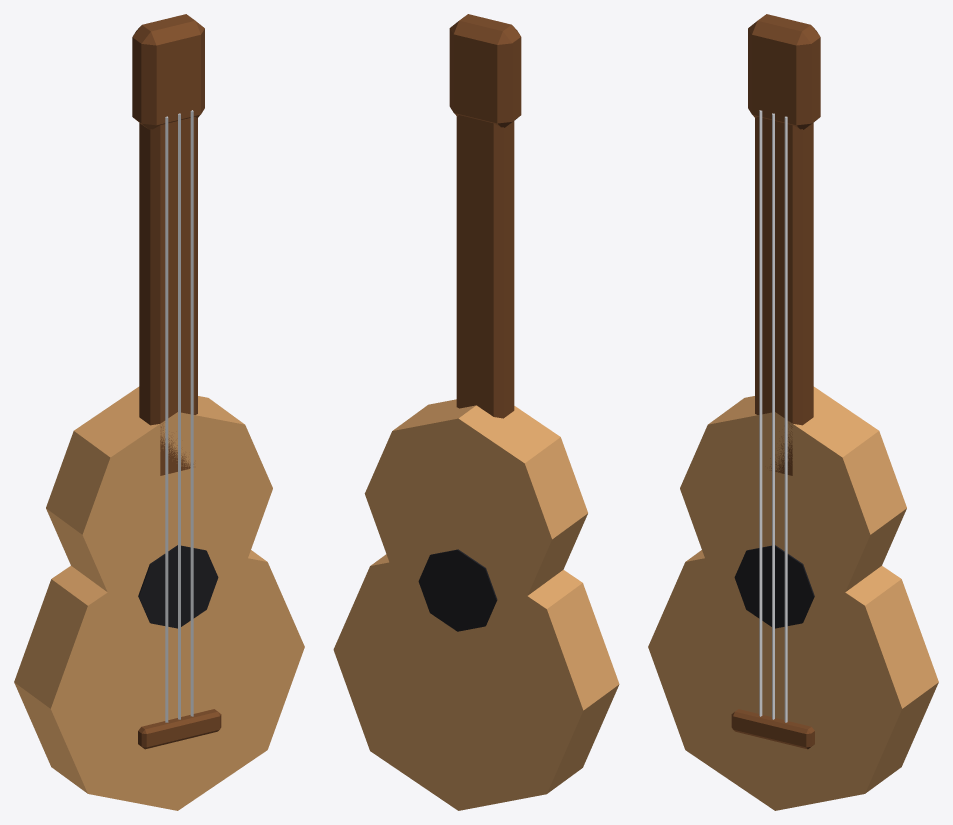
File: Guitar.fbx
The picture shows the model from 3 angles, left to right: view 1: azimuth 30°, elevation 25°; view 2: azimuth 150°, elevation 25°; view 3: azimuth 330°, elevation 25°; orthographic projection.
Parts seen in each view (by area): view 1: Guitar; view 2: Guitar; view 3: Guitar.
Part boxes in pixels (box(x1,y1,x2,y2)): Guitar: box(14, 14, 304, 810); Guitar: box(333, 14, 619, 810); Guitar: box(648, 14, 938, 810).
Size of the model in its own units: 1.6 by 4.7 by 0.47.
Materials: 1 (1 with a texture image).
